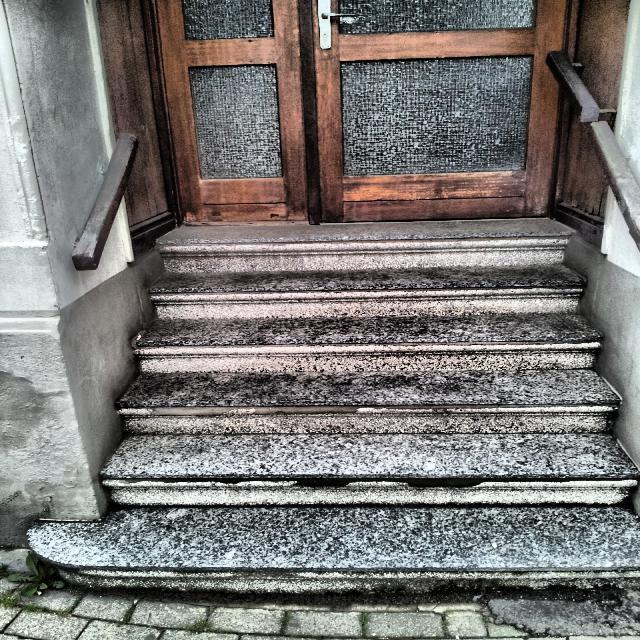escada: (79, 239, 640, 506)
